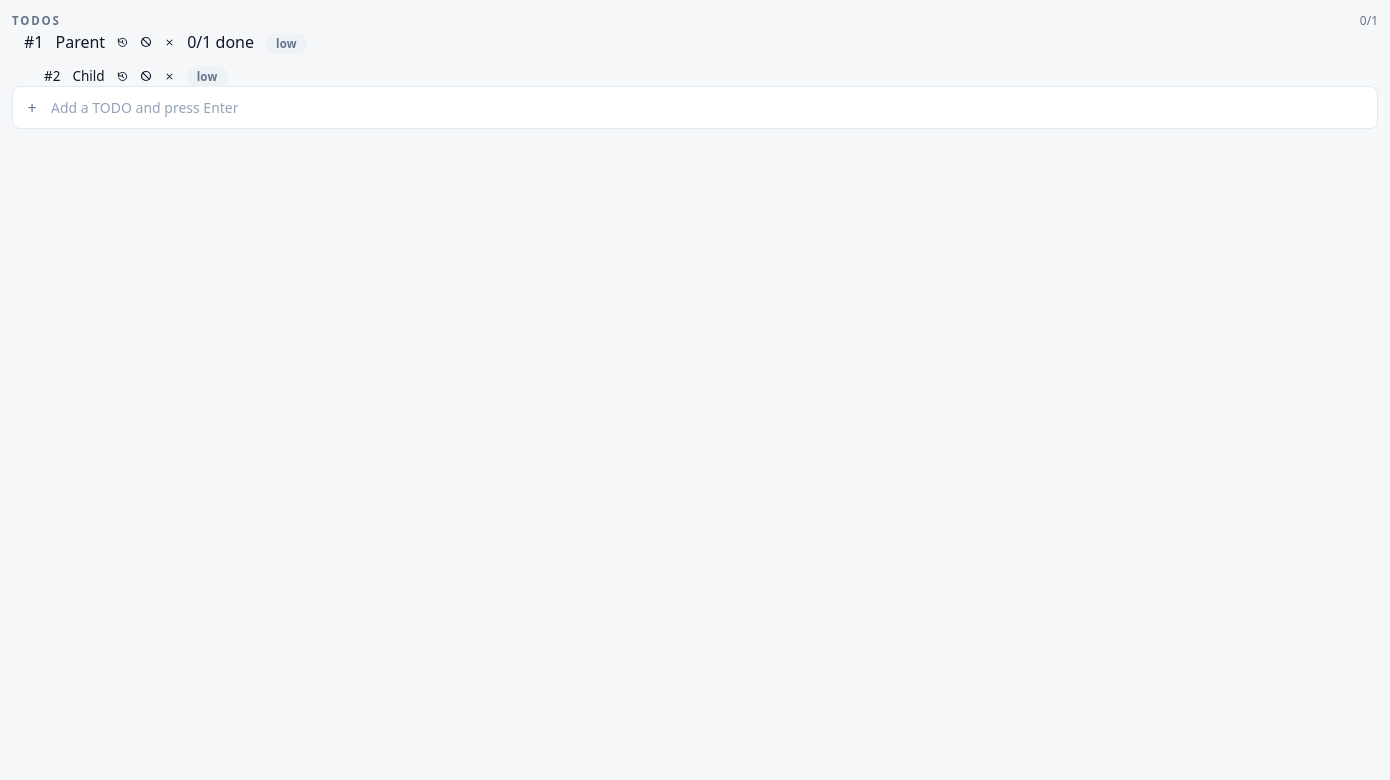
journal undo acceptance (note, log, subtask) › AC9: a subtask delete toast reads exactly "Removed from this day" with no title
The image size is (1390, 780).
Step 1. Click the button named "Remove from day" → x=169, y=76, box [164,71,175,82]
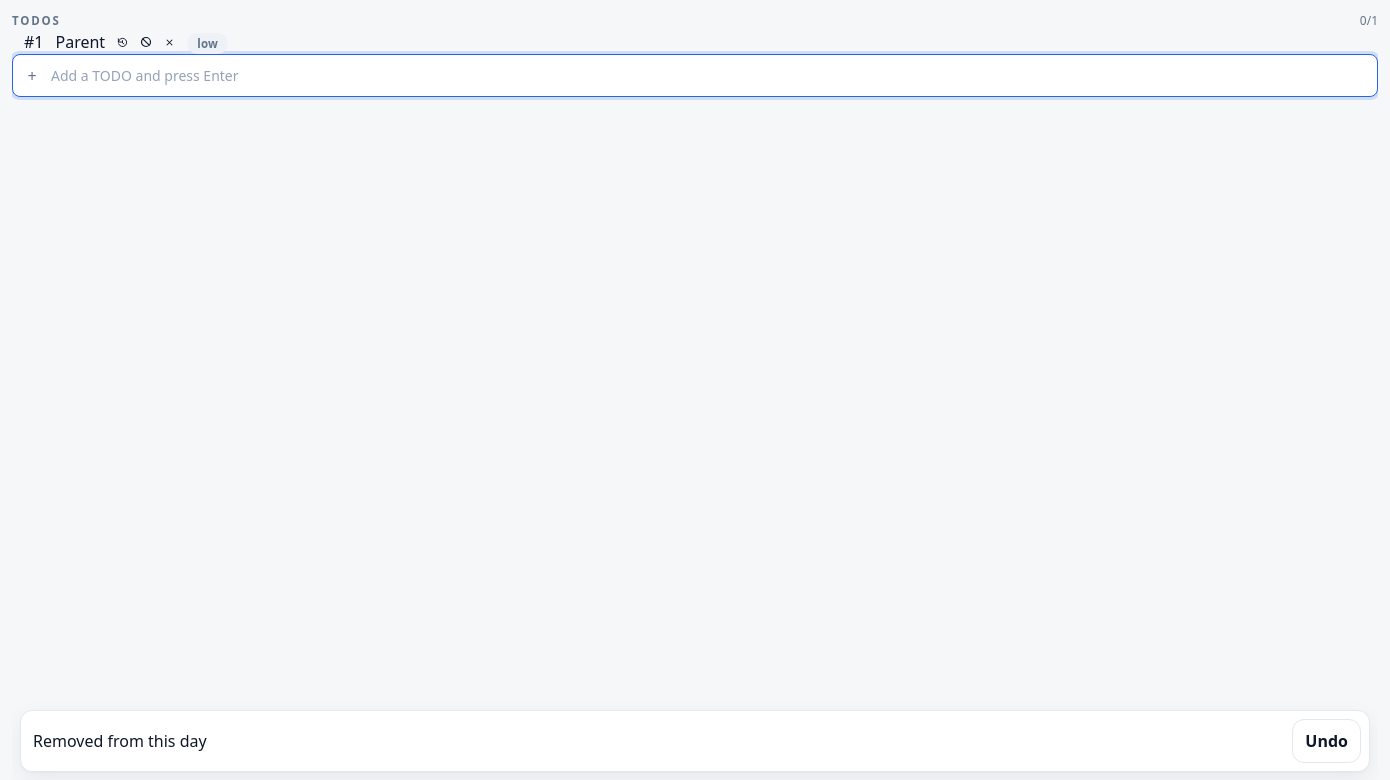
Expected: the text with class "toast-msg" reads "Removed from this day", [33,730,207,752]
